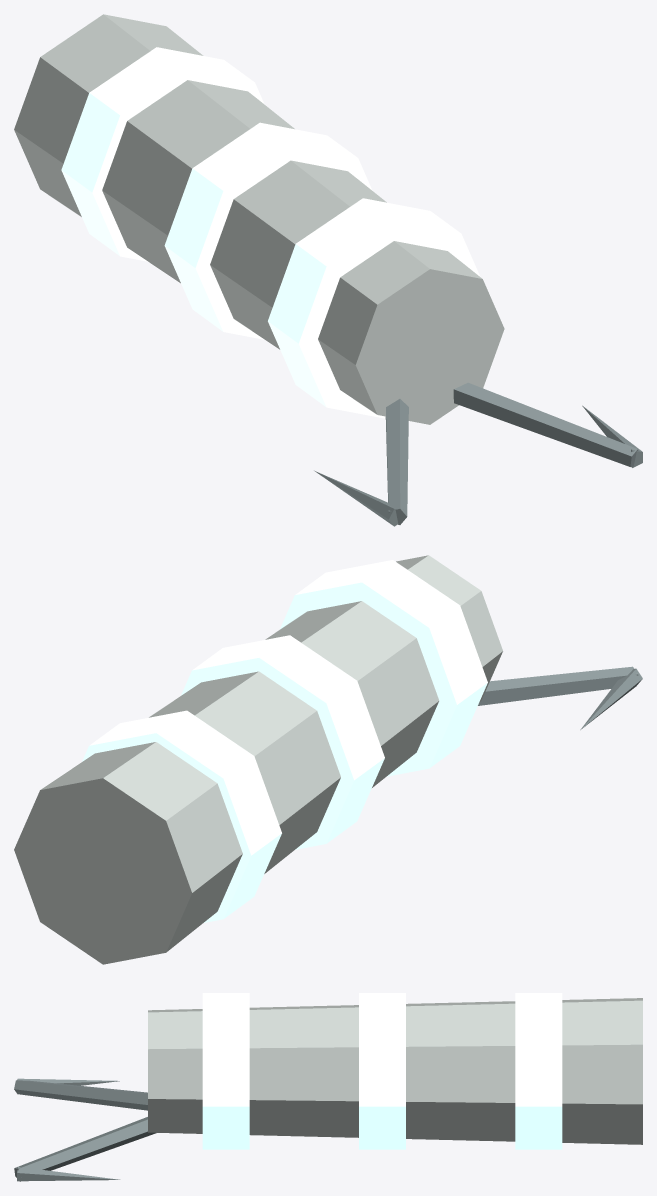
The model's file is ScientificLure.fbx.
The picture shows the model from 3 angles, top to bottom: view 1: azimuth 30°, elevation 25°; view 2: azimuth 150°, elevation 25°; view 3: azimuth 270°, elevation 25°; orthographic projection. The views are drawn at different scales.
Visible parts, largest first — view 1: LureBody, GlowRing0.06, GlowRing0, GlowRing-0.06, Hook-1, Hook1, HookTip1; view 2: LureBody, GlowRing0.06, GlowRing0, GlowRing-0.06, Hook1, HookTip1; view 3: LureBody, GlowRing-0.06, GlowRing0.06, GlowRing0, Hook1, Hook-1, HookTip-1, HookTip1.
Part boxes in pixels (x1,y1,x2,y2): LureBody: (14, 14, 504, 424); GlowRing0.06: (268, 198, 480, 418); GlowRing0: (164, 122, 372, 339); GlowRing-0.06: (61, 47, 264, 261); Hook-1: (453, 382, 638, 466); Hook1: (385, 399, 408, 524); HookTip1: (314, 470, 398, 526); LureBody: (14, 555, 502, 964); GlowRing0.06: (280, 560, 487, 776); GlowRing0: (181, 635, 384, 849); GlowRing-0.06: (82, 710, 281, 922); Hook1: (478, 666, 638, 705); HookTip1: (580, 668, 642, 729); LureBody: (148, 998, 642, 1144); GlowRing-0.06: (515, 993, 562, 1149); GlowRing0.06: (202, 993, 249, 1149); GlowRing0: (359, 993, 405, 1149); Hook1: (14, 1080, 147, 1110); Hook-1: (14, 1117, 156, 1181); HookTip-1: (17, 1166, 120, 1181); HookTip1: (17, 1078, 119, 1092).
Bounding box in the file's own units: 0.09 × 0.064 × 0.2415.
